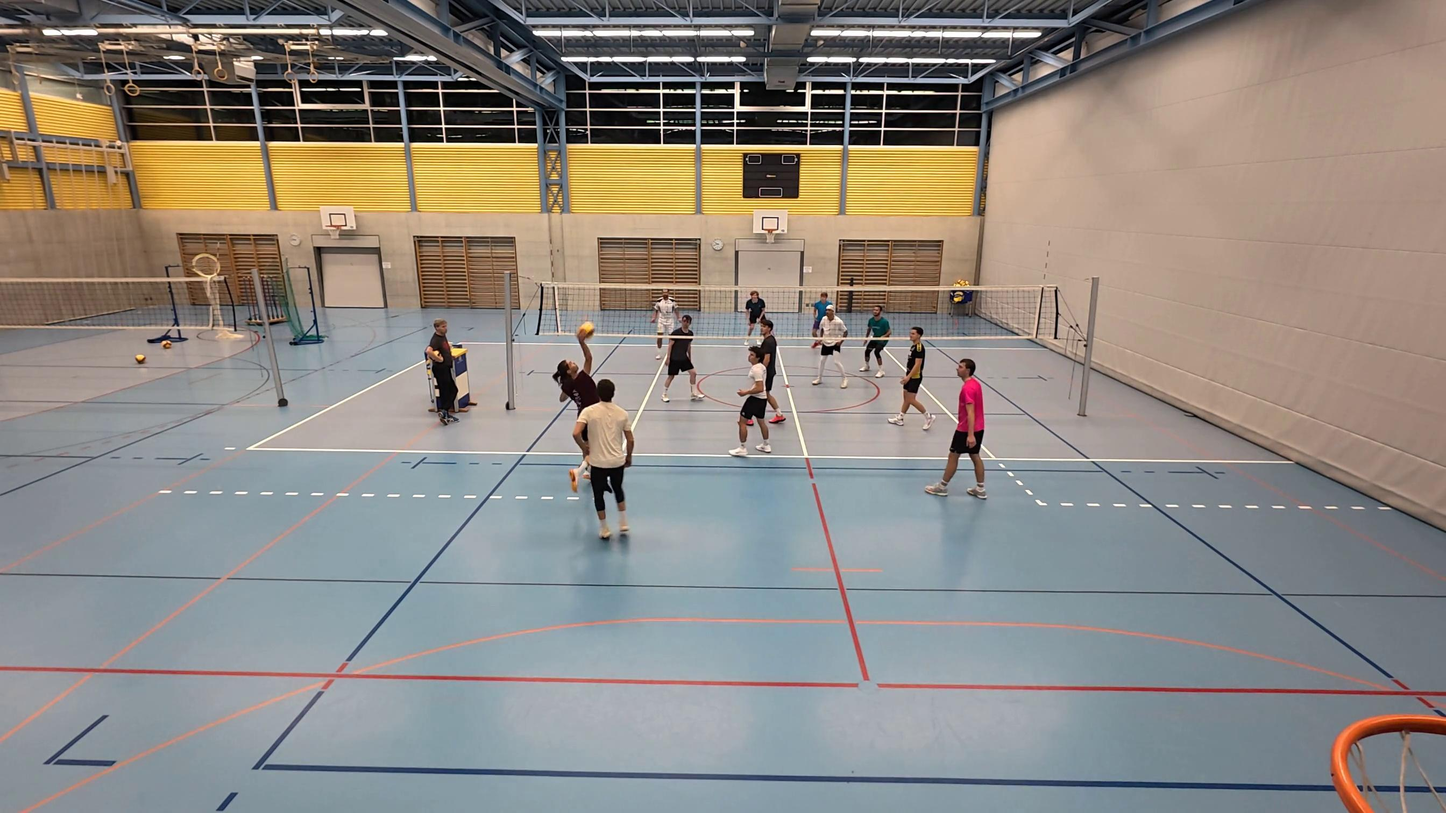Attack: (550, 318, 601, 493)
Player: (571, 380, 634, 539), (926, 358, 988, 498), (730, 345, 774, 457), (889, 327, 933, 426), (661, 312, 704, 403), (753, 316, 785, 424), (808, 306, 850, 387), (862, 306, 893, 376), (653, 289, 677, 360), (807, 291, 833, 346), (743, 290, 767, 341)
ball: (577, 323, 595, 336)
